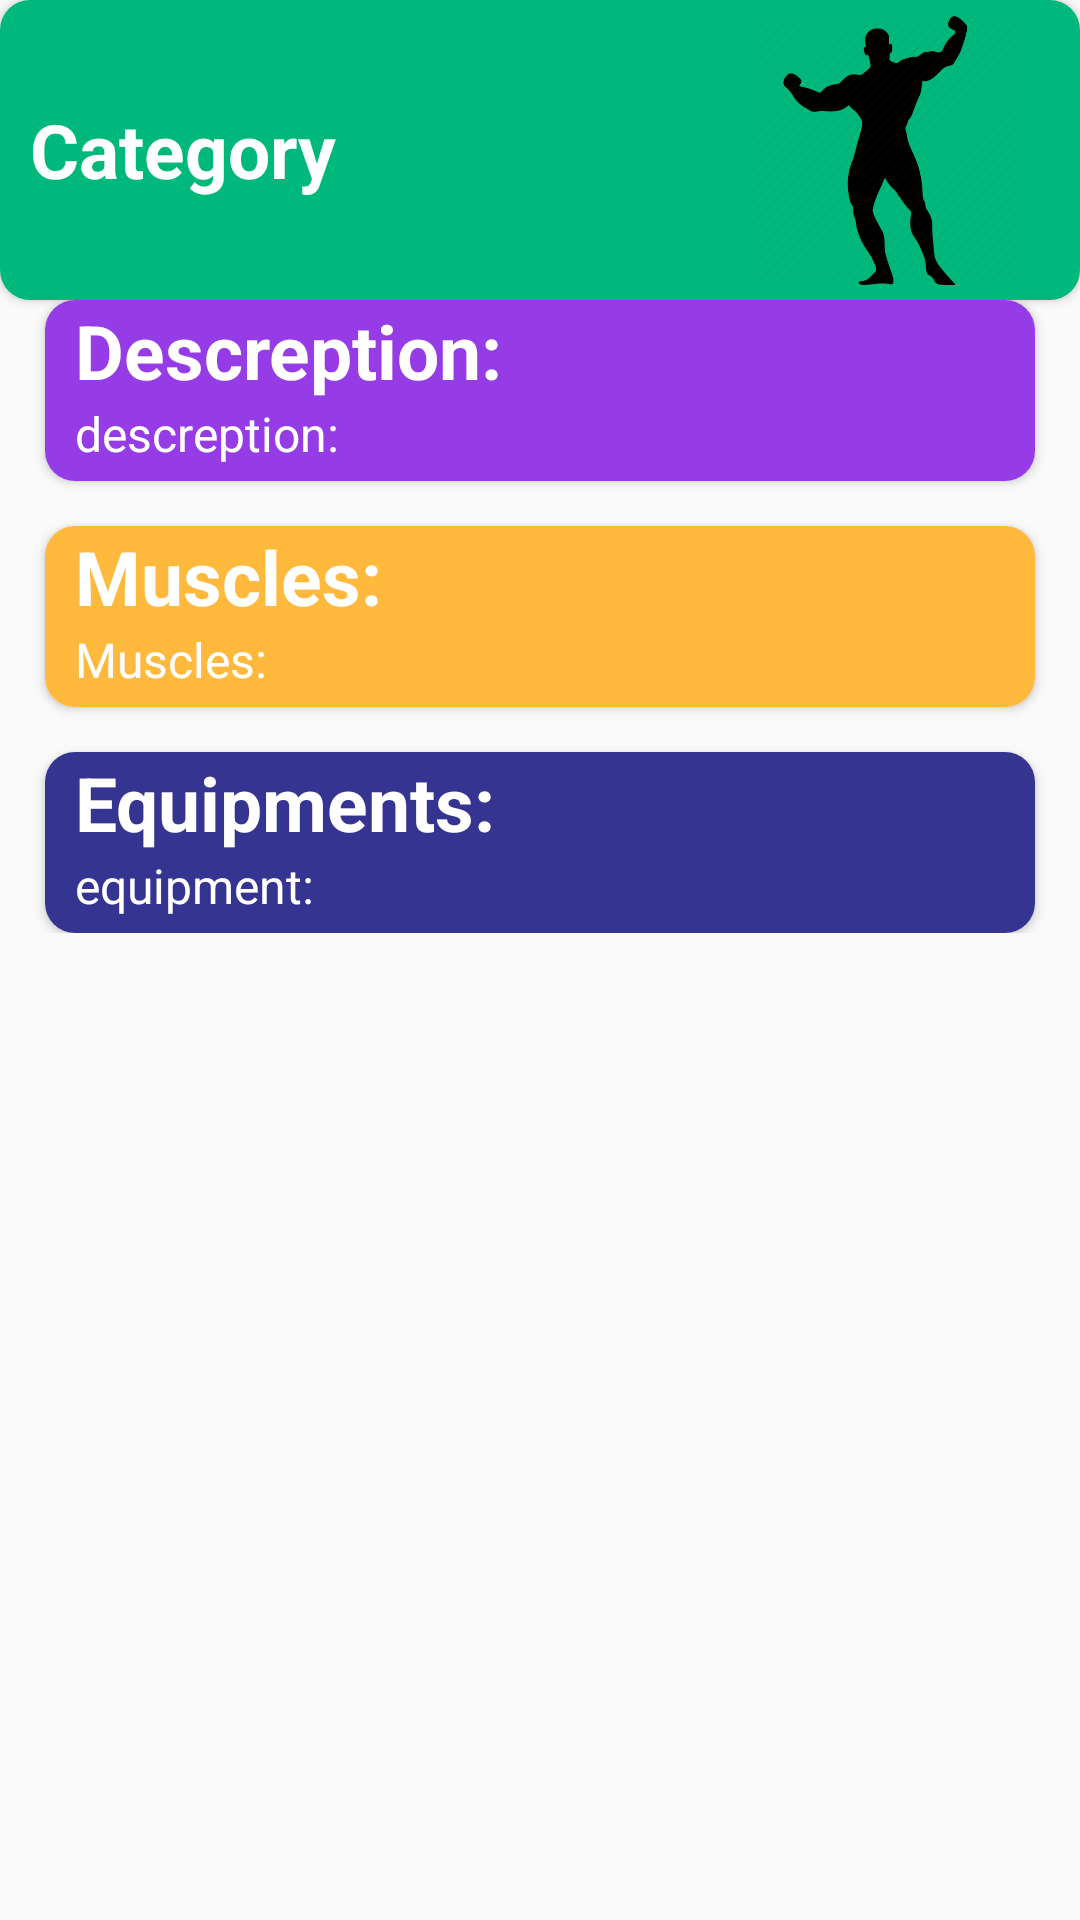

Point at icon controls on the screen. Image size 1080 × 1920, points as [x,y].
body: [875,150]
